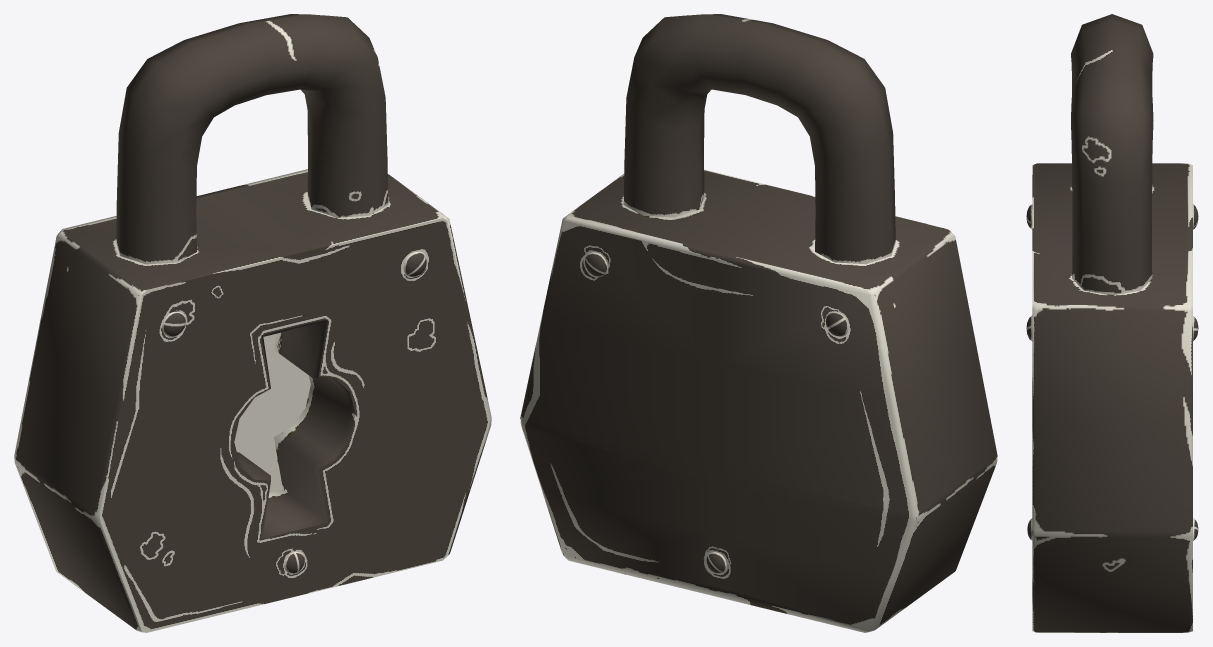
The model's file is lock.fbx.
3 renders of one model, left to right at view 1: azimuth 30°, elevation 25°; view 2: azimuth 150°, elevation 25°; view 3: azimuth 270°, elevation 25°, orthographic. The views are drawn at different scales.
Parts seen in each view (by area): view 1: Lock_Lock_0; view 2: Lock_Lock_0; view 3: Lock_Lock_0.
Boxes of the visible parts, x1,y1,x2,y2 form: Lock_Lock_0: [14, 14, 491, 632]; Lock_Lock_0: [520, 14, 997, 632]; Lock_Lock_0: [1026, 14, 1198, 632].
Bounding box in the file's own units: 14.7 × 19.21 × 5.77.
Materials: 1 (1 with a texture image).
